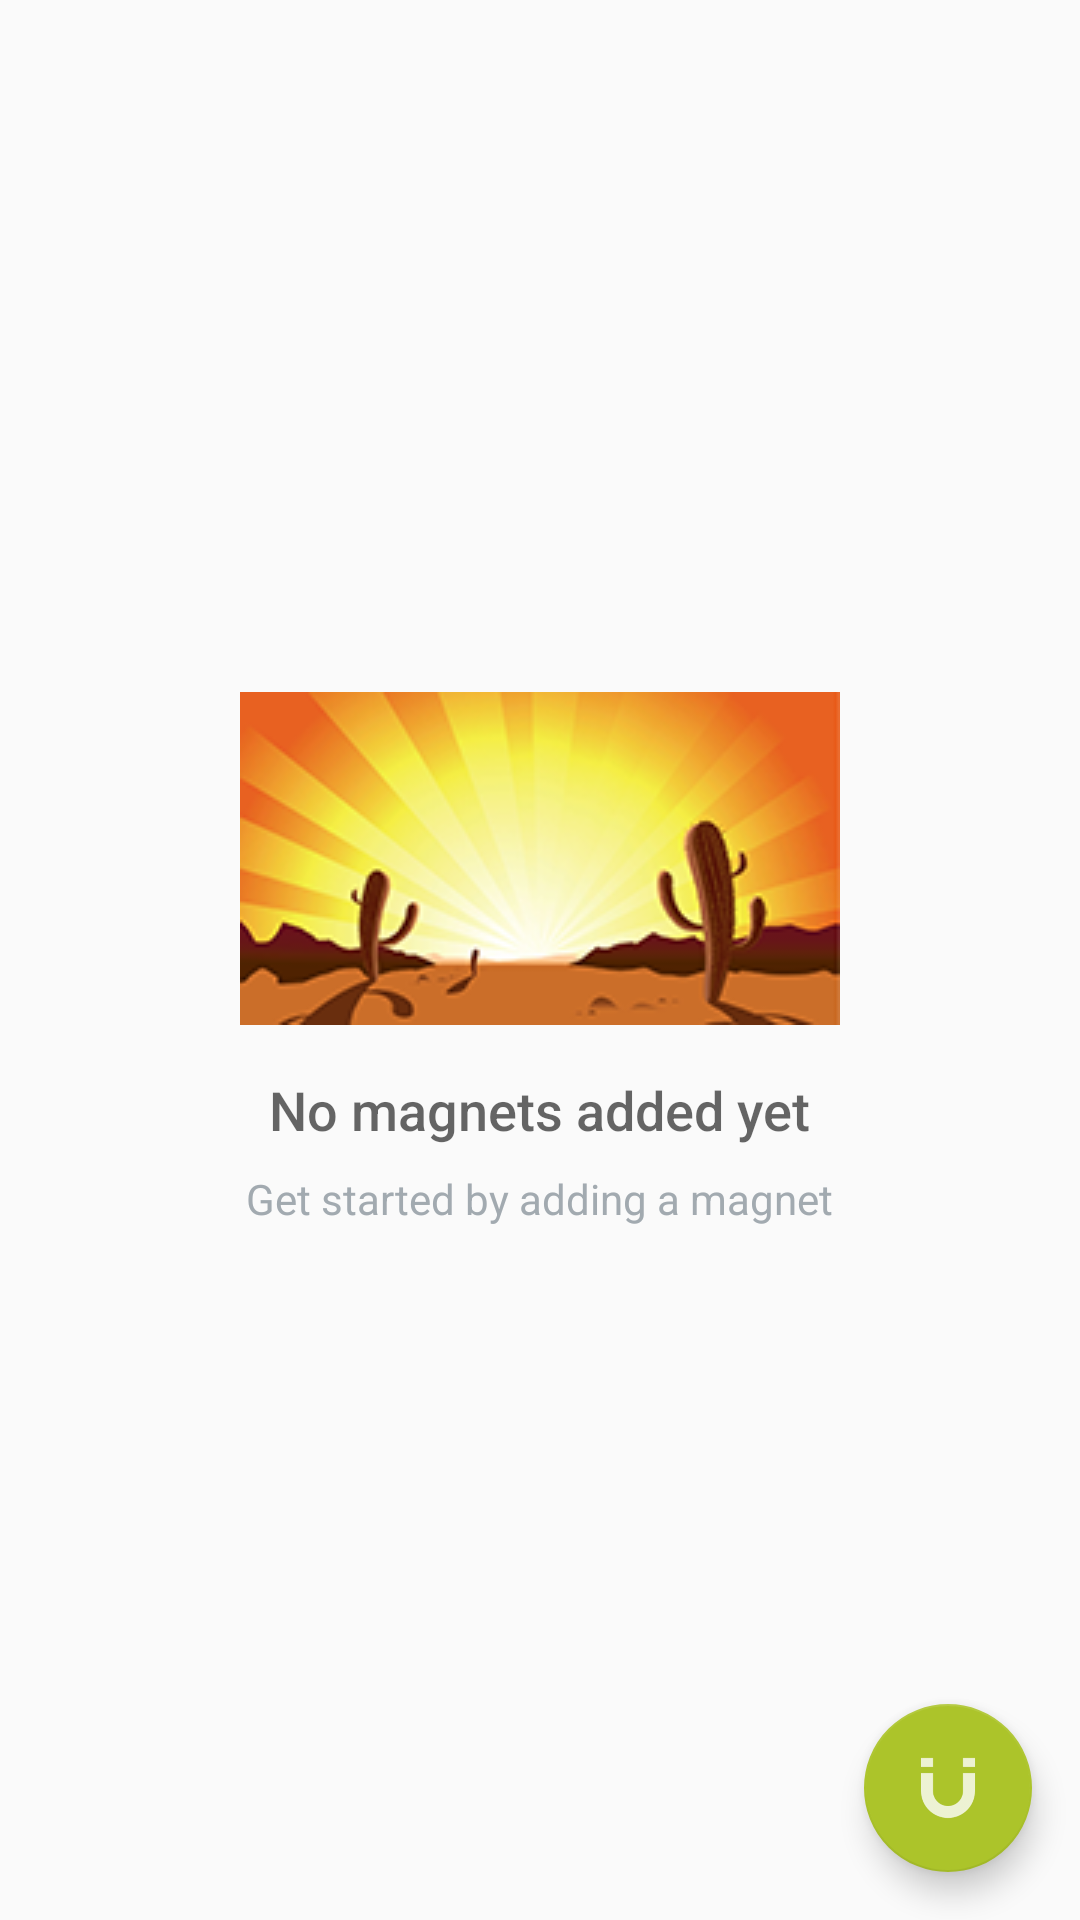

Where to tap for icons on this 1080*1920 app screen, as [x,y]:
magnet add: [948,1788]
